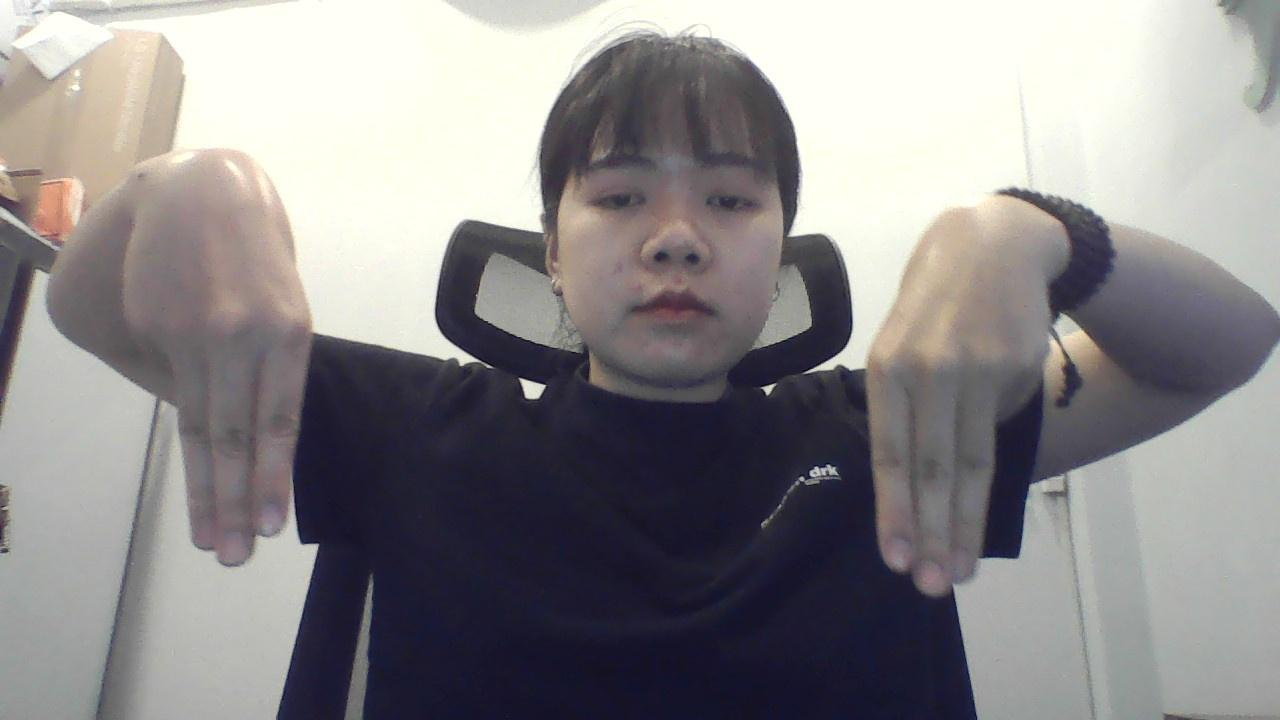M: (107, 147, 329, 575), (859, 181, 1052, 608)
